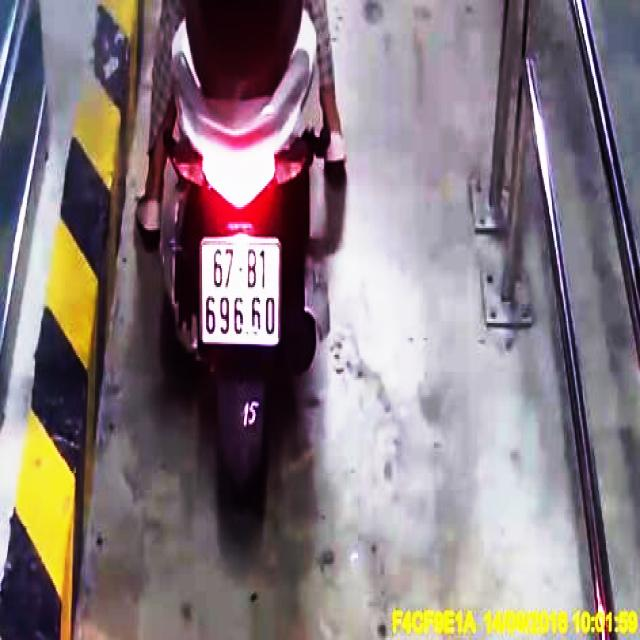license_plate: (200, 246, 283, 345)
